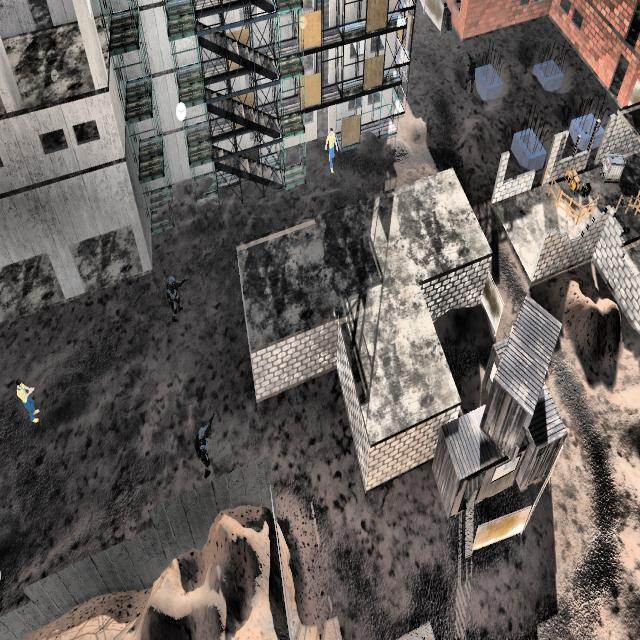bad: (158, 258, 190, 335), (189, 412, 217, 486), (463, 43, 479, 101)
good: (10, 372, 43, 442), (321, 120, 340, 180)
